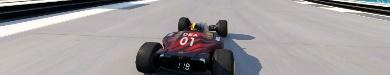Car: (134, 17, 235, 74)
